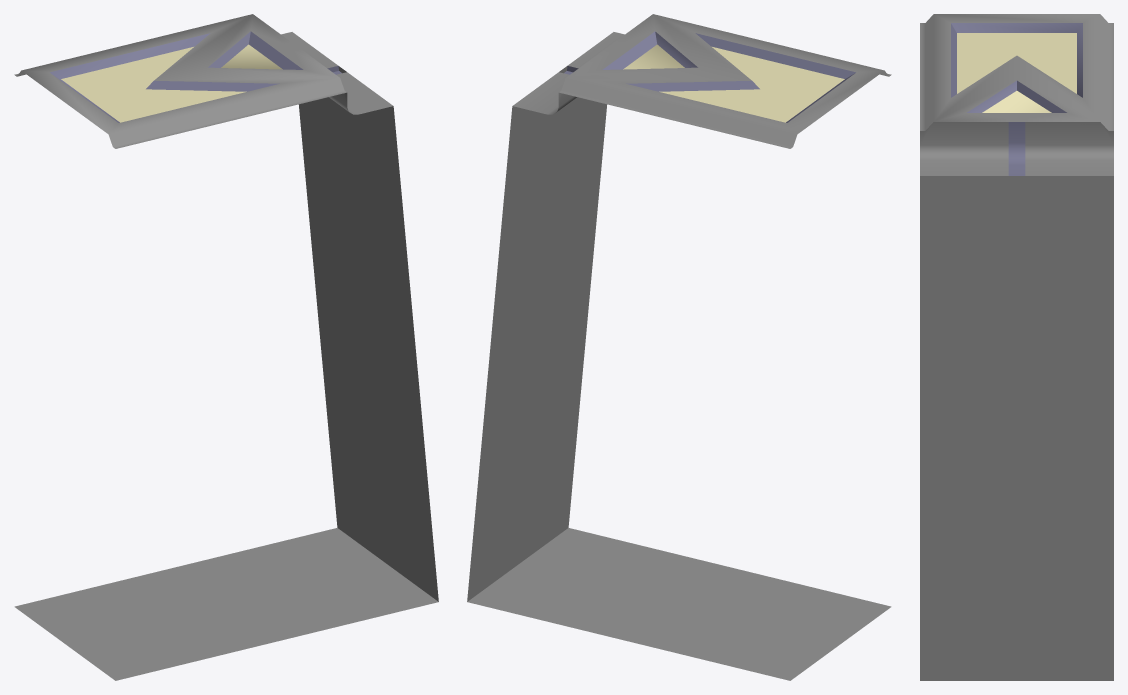
Rendered from hangarMiddle.fbx.
3 views of the same model, side by side, from view 1: azimuth 30°, elevation 25°; view 2: azimuth 150°, elevation 25°; view 3: azimuth 270°, elevation 25° (orthographic). The views are drawn at different scales.
Parts seen in each view (by area): view 1: Cube.007; view 2: Cube.007; view 3: Cube.007.
Boxes of the visible parts, box(x1,y1,x2,y2) form: Cube.007: box(14, 14, 438, 680); Cube.007: box(467, 14, 891, 680); Cube.007: box(920, 14, 1113, 680).
Size of the model in its own units: 750 by 1200 by 408.
